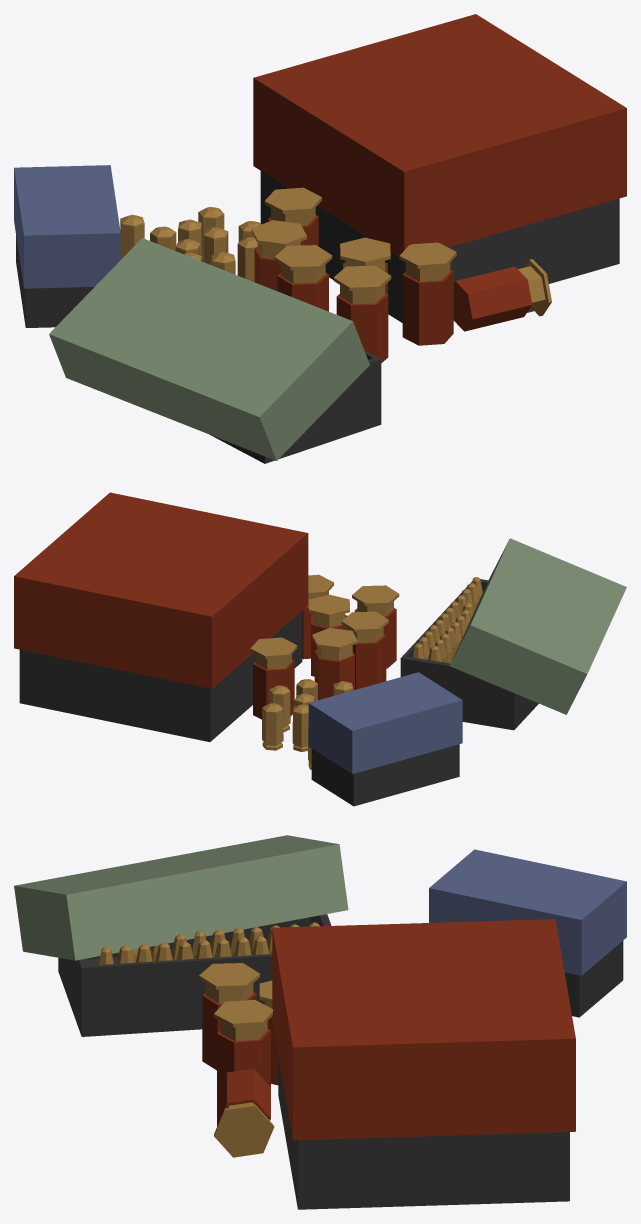
File: ammo1.fbx
3 views of the same model, one above another, from view 1: azimuth 30°, elevation 25°; view 2: azimuth 150°, elevation 25°; view 3: azimuth 270°, elevation 25° (orthographic). The views are drawn at different scales.
Visible parts, largest first — view 1: Shotgun, Rifle, Pistol; view 2: Shotgun, Rifle, Pistol; view 3: Shotgun, Rifle, Pistol.
Part boxes in pixels (x1,y1,x2,y2): Shotgun: (251,14,626,362); Rifle: (49,238,381,463); Pistol: (14,165,261,327); Shotgun: (14,492,399,741); Rifle: (400,538,626,730); Pistol: (262,672,462,806); Shotgun: (199,919,575,1209); Rifle: (14,835,348,1036); Pistol: (429,849,626,1017).
Size of the model in its own units: 77.77 by 20.4 by 67.4.
